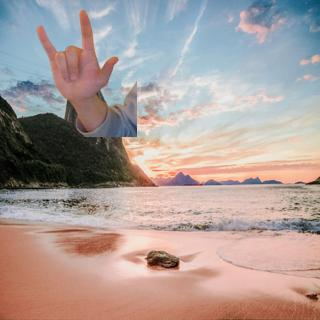ILY: (32, 8, 122, 104)
